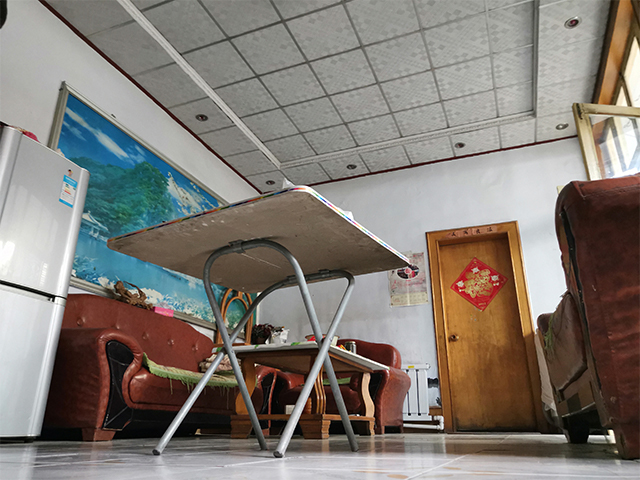sofa: (532, 170, 640, 462), (44, 290, 240, 444), (270, 337, 413, 435)
table: (105, 183, 412, 459), (211, 337, 391, 440)
